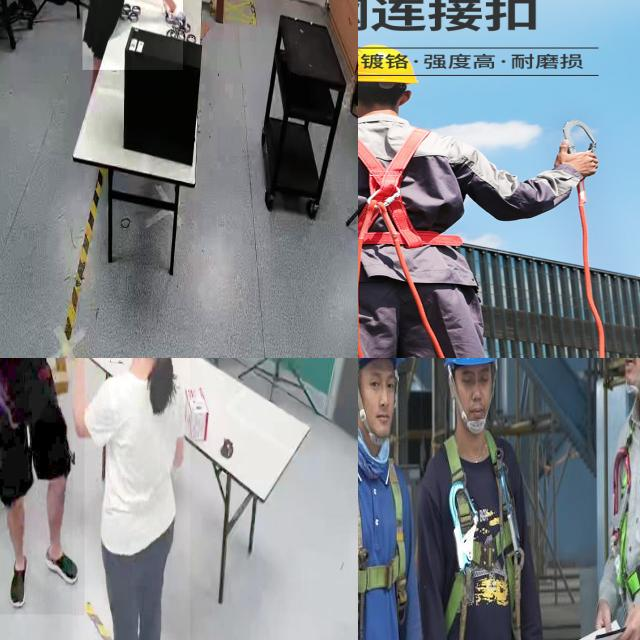Harness: (358, 120, 473, 309), (436, 432, 530, 640), (358, 441, 417, 640), (609, 386, 640, 640)
No_Glasses: (365, 370, 403, 395), (459, 370, 494, 392)
person: (72, 358, 190, 640), (0, 358, 84, 615), (82, 0, 183, 70)
shoes: (40, 539, 82, 589), (6, 551, 34, 612), (13, 0, 42, 20)
